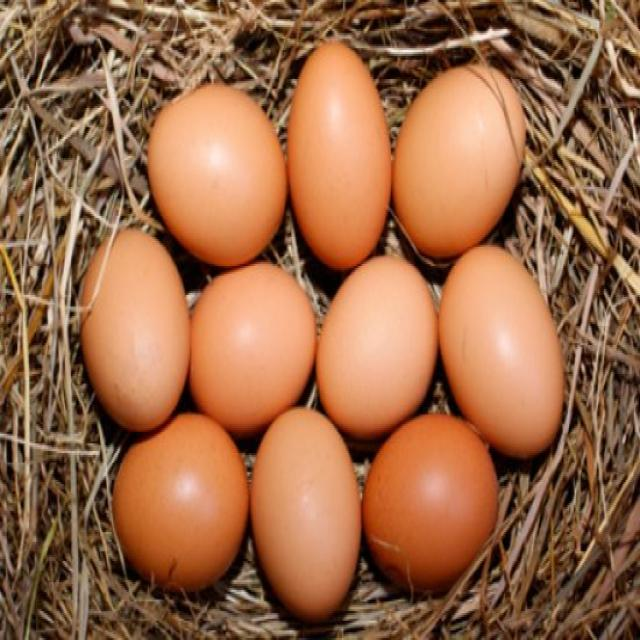Egg: (149, 108, 497, 550), (436, 243, 568, 484), (389, 52, 526, 272), (285, 28, 395, 263), (148, 77, 286, 264), (73, 228, 191, 431), (183, 266, 320, 431)
